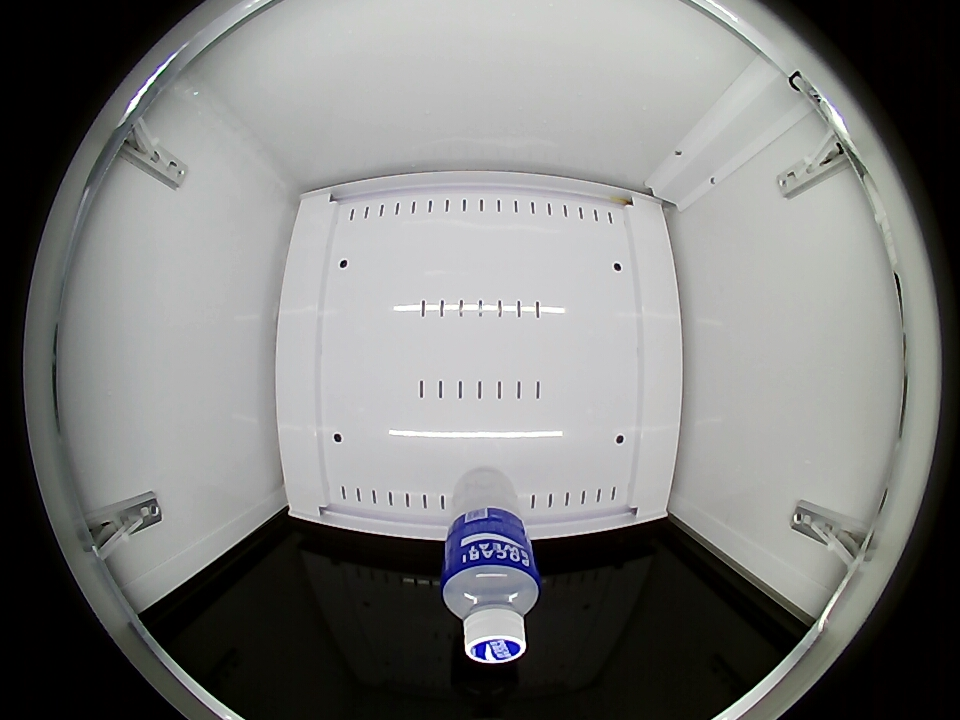baokuangli: (442, 545, 541, 664)
